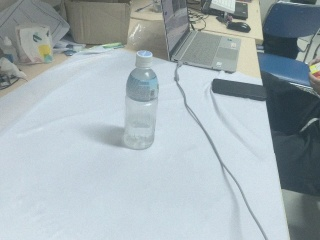bottle: (124, 49, 162, 151)
box: (62, 1, 132, 48)
phone: (210, 77, 269, 103)
